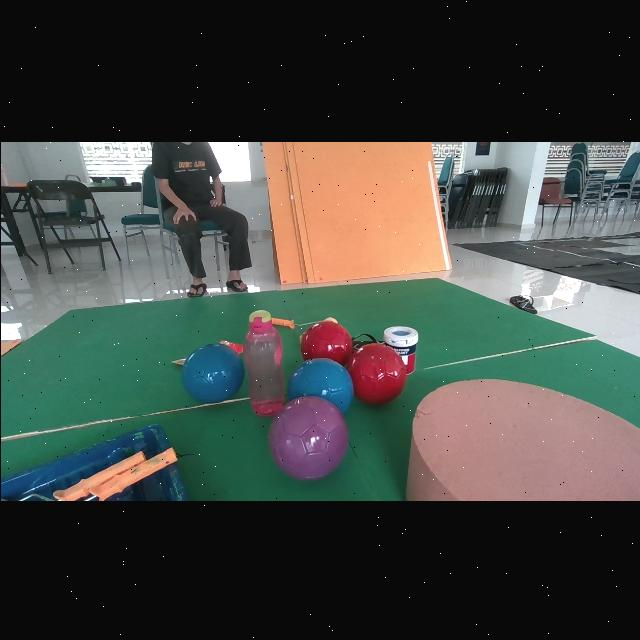B: (180, 342, 244, 401), (286, 356, 353, 412)
P: (267, 394, 348, 478)
R: (345, 341, 406, 403), (300, 318, 352, 363)
